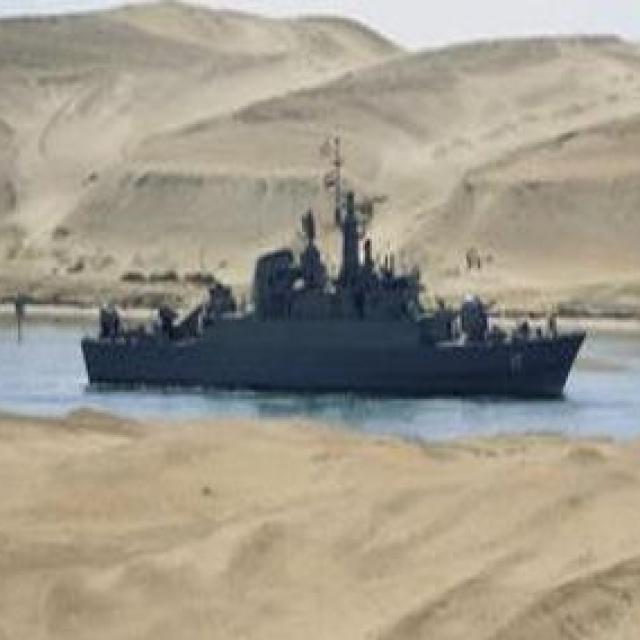navalvessels: (65, 166, 590, 391)
